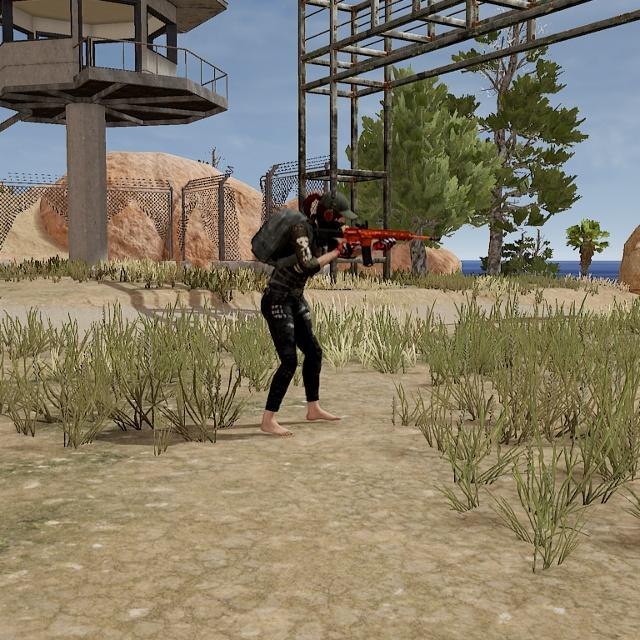head: (316, 191, 352, 237)
people: (251, 189, 359, 438)
